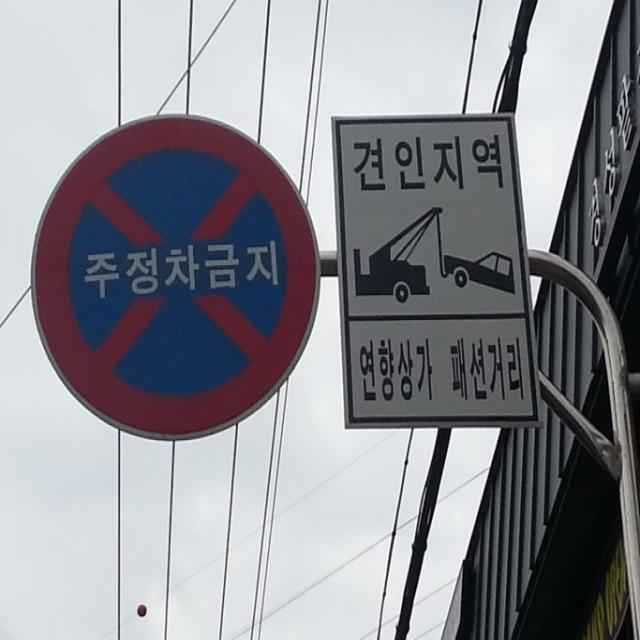regulatory_No_stop_or_parking: (25, 82, 331, 451)
